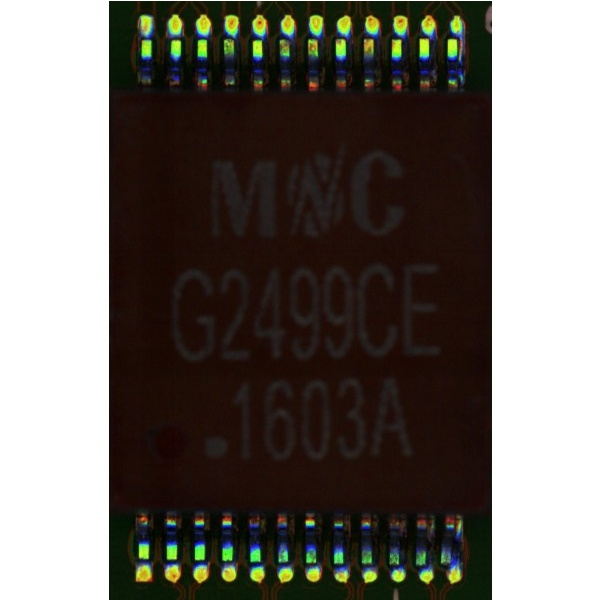Bad_qiaojiao: (458, 38, 464, 77)
